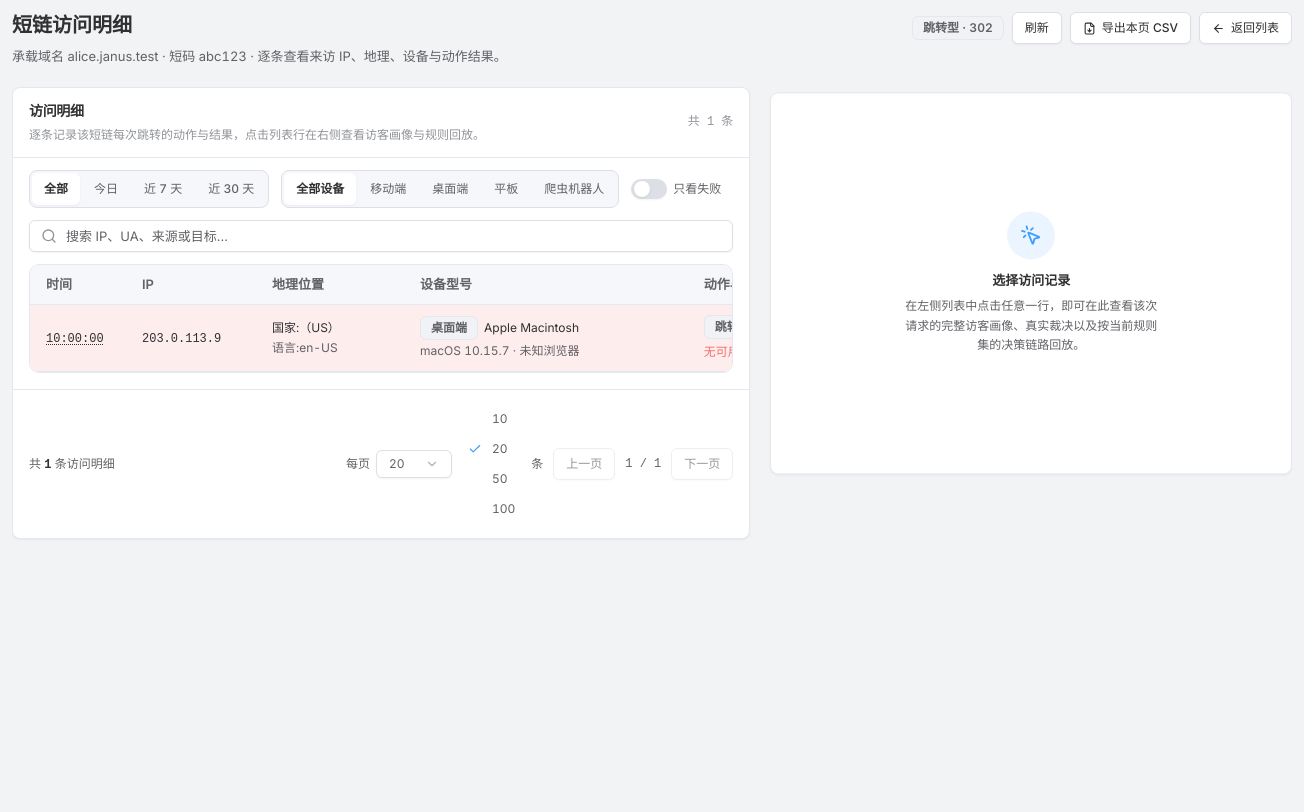
Test: LinkVisitsView 关键词搜索 › Given 关键词已生效, When 清空过滤, Then 请求回到不带 keyword 的条件
The width and height of the screenshot is (1304, 812).
In the field named "搜索访问明细": (381, 236) [29,220,733,252], type "203.0.113"
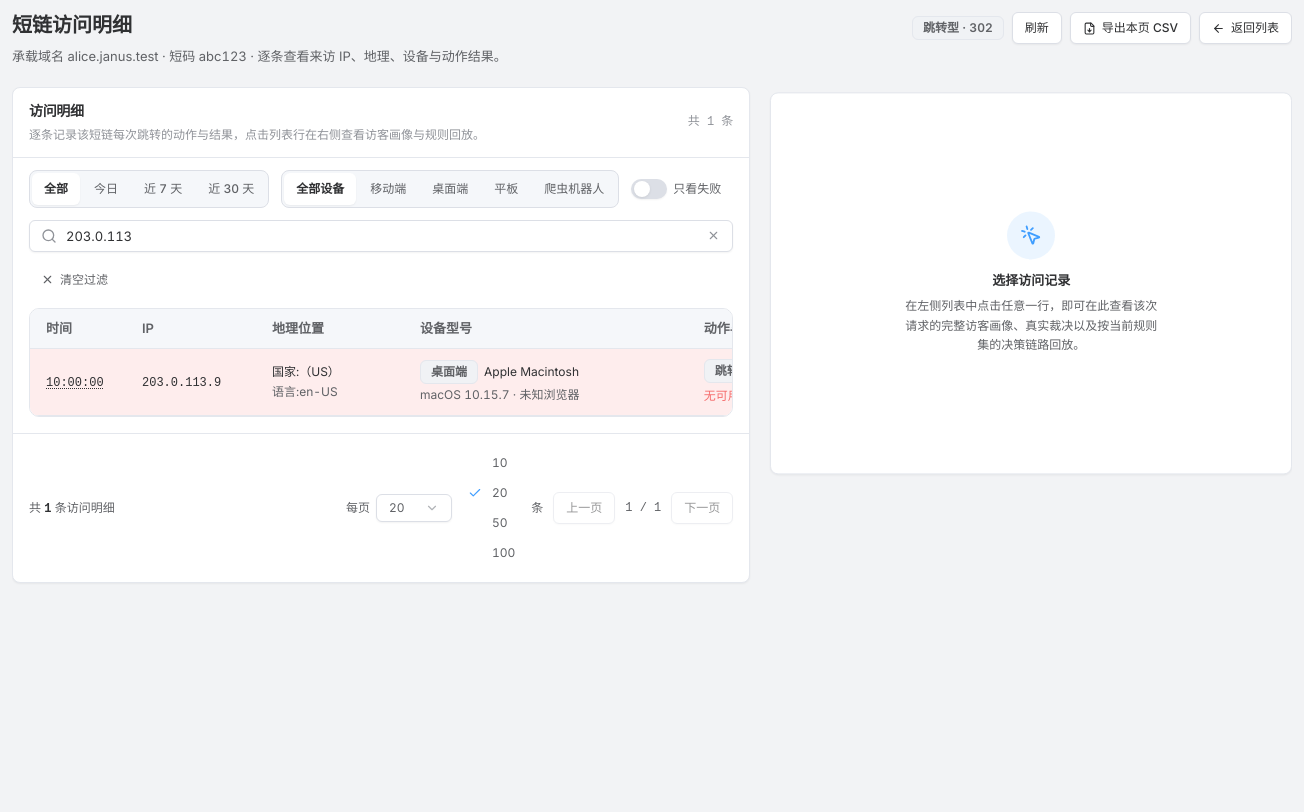
Result: the button "清空过滤" is shown
Click the button "清空过滤": (74, 280) [29,264,120,296]
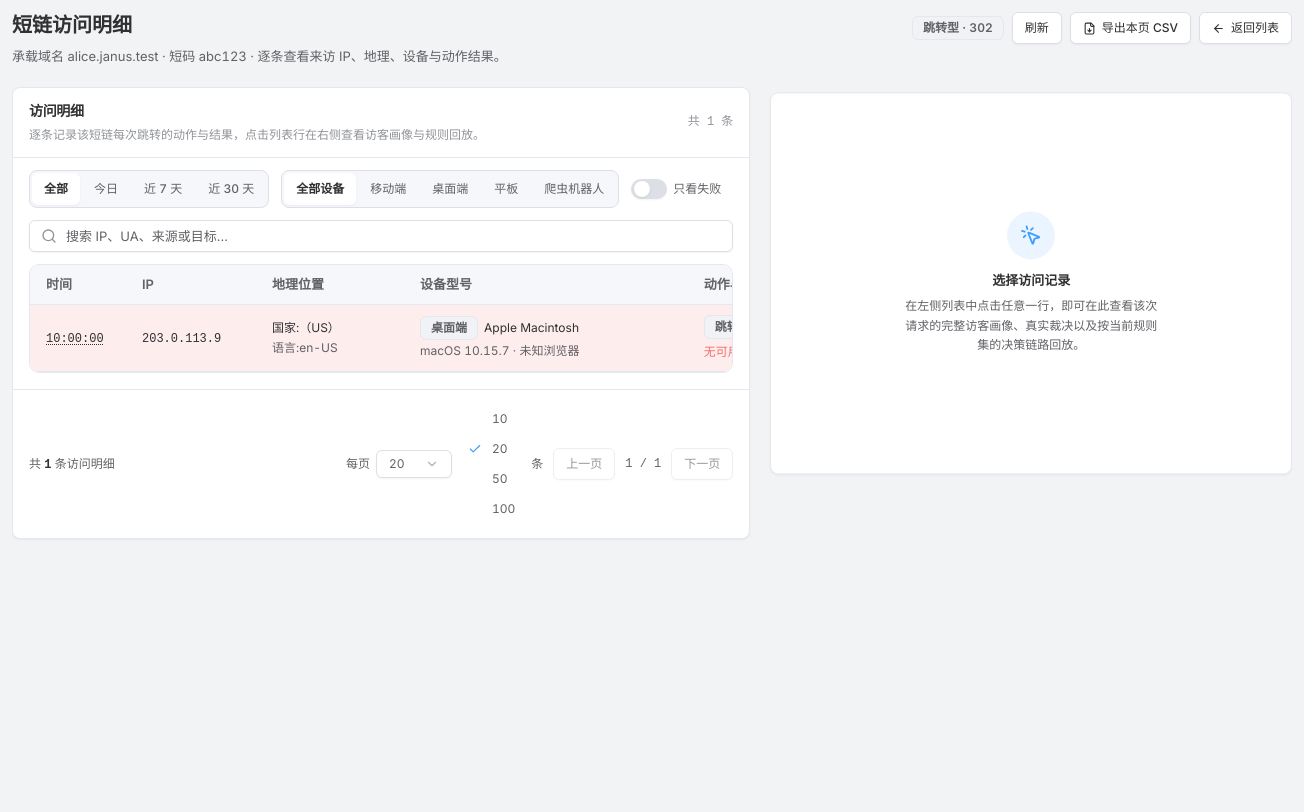
Result: the field named "搜索访问明细" is empty at [29,220,733,252]
